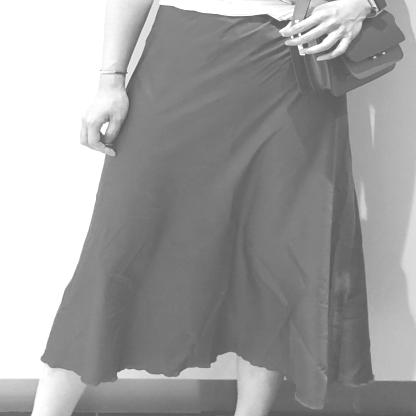dress: (27, 2, 386, 416)
